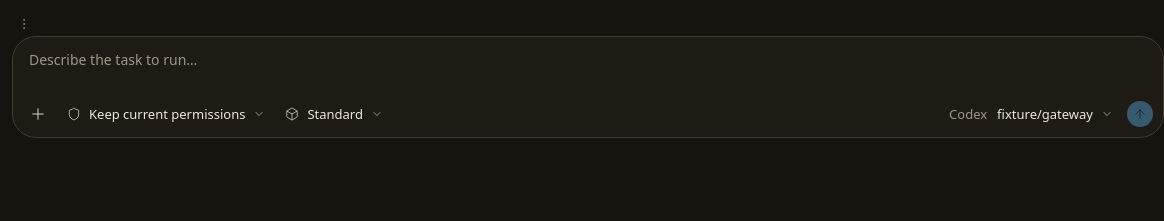
Test case: refreshes the codex model displayed after clicking Restore
Expected: the button with aria-label "Model" reads "fixture/gateway", x1=991 y1=101 x2=1119 y2=127
Click the button named "Session actions": click(24, 24) x1=12 y1=12 x2=36 y2=36
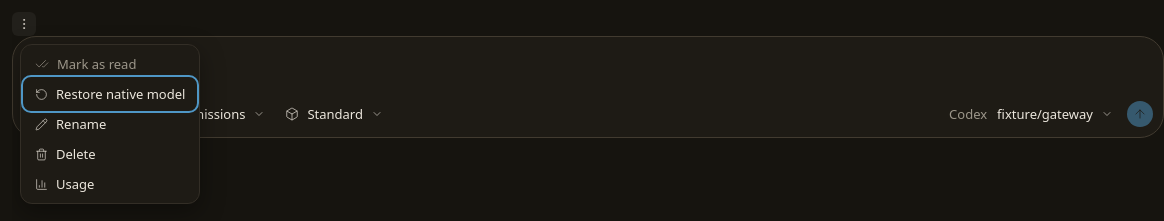
Click the menu item "Restore native model": click(110, 94) x1=25 y1=79 x2=195 y2=109
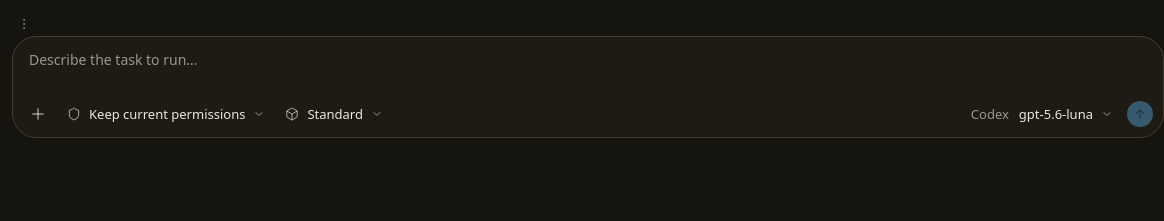
Expected: the button "Model" no longer shows "fixture/gateway"
